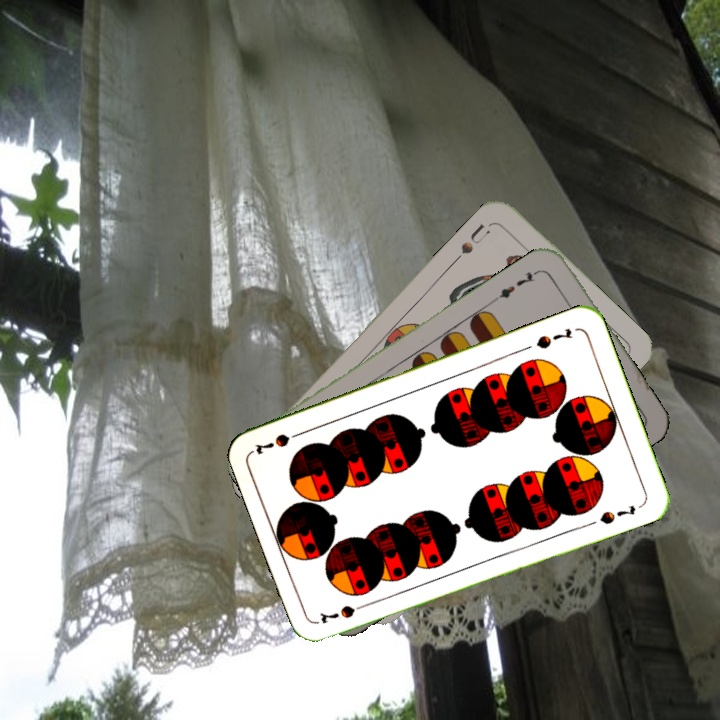E7: (491, 265, 544, 303)
S7: (315, 599, 373, 626), (532, 324, 575, 352)
SU: (449, 220, 493, 265)
